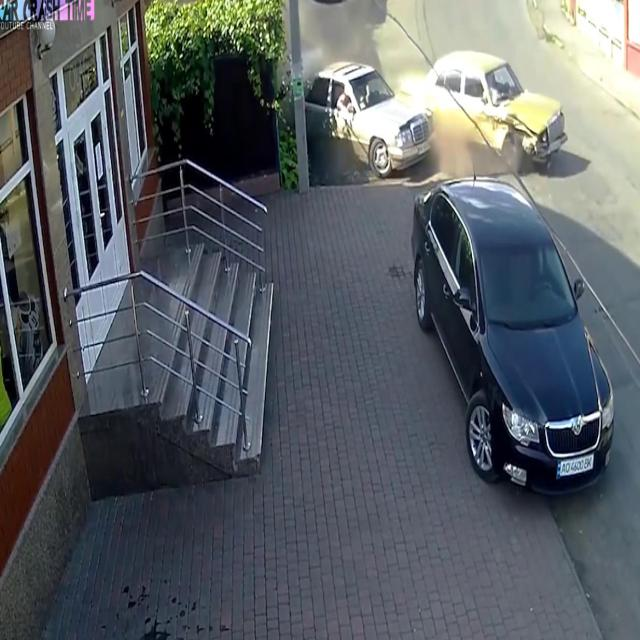accident: (303, 42, 570, 182)
